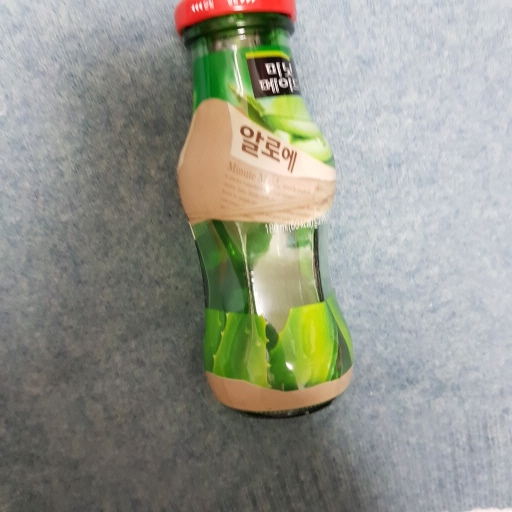Glass_4: (168, 1, 365, 417)
